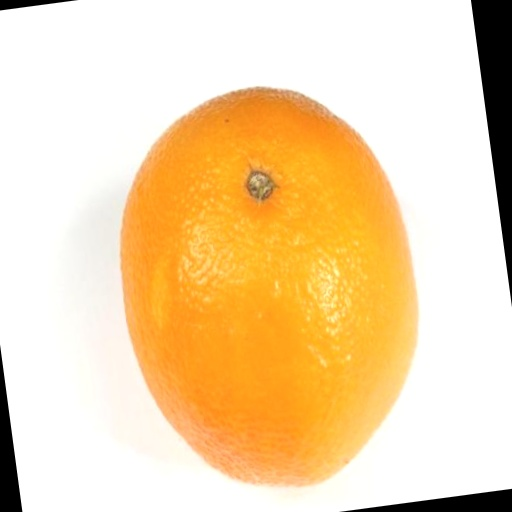fruit: (121, 88, 417, 485)
